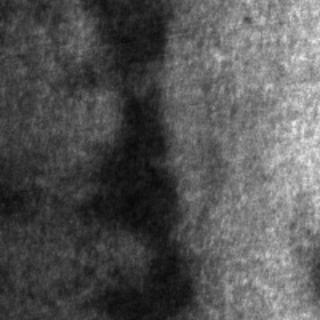patches: (79, 86, 197, 318), (80, 0, 170, 84)
